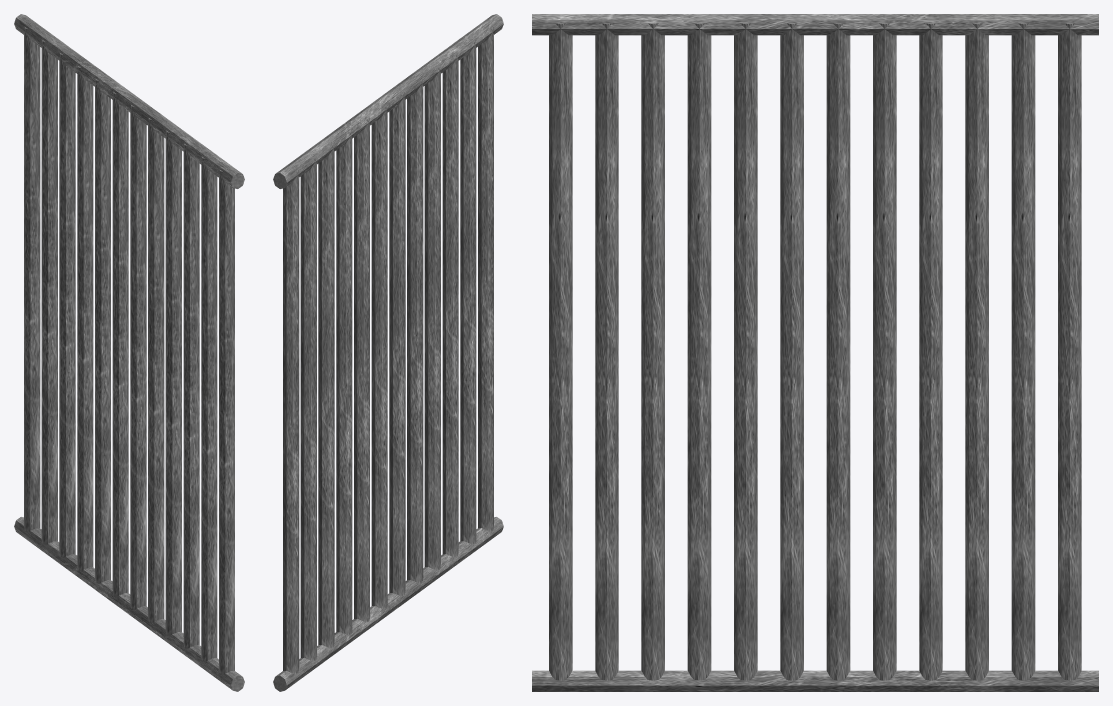
Rendered from gate.fbx.
The picture shows the model from 3 angles, left to right: view 1: azimuth 30°, elevation 25°; view 2: azimuth 150°, elevation 25°; view 3: azimuth 270°, elevation 25°; orthographic projection. The views are drawn at different scales.
Visible parts, largest first — view 1: pCylinder12, pCylinder8, pCylinder5, pCylinder11, pCylinder4, pCylinder7, pCylinder3, pCylinder10, pCylinder13, pCylinder6, pCylinder2, pCylinder9 (+2 smaller); view 2: pCylinder6, pCylinder13, pCylinder3, pCylinder10, pCylinder7, pCylinder4, pCylinder11, pCylinder12, pCylinder8, pCylinder5, pCylinder2, pCylinder9 (+2 smaller); view 3: pCylinder5, pCylinder8, pCylinder12, pCylinder3, pCylinder10, pCylinder13, pCylinder4, pCylinder9, pCylinder2, pCylinder6, pCylinder7, pCylinder11 (+2 smaller).
Boxes of the visible parts, box(x1,y1,x2,y2) form: pCylinder12: box(41, 39, 57, 544); pCylinder8: box(112, 91, 128, 596); pCylinder5: box(165, 130, 181, 635); pCylinder11: box(59, 53, 75, 557); pCylinder4: box(183, 143, 199, 648); pCylinder7: box(130, 104, 146, 609); pCylinder3: box(201, 156, 217, 661); pCylinder10: box(77, 66, 93, 570); pCylinder13: box(24, 26, 40, 531); pCylinder6: box(148, 118, 164, 622); pCylinder2: box(219, 169, 234, 674); pCylinder9: box(95, 78, 110, 583); pCylinder6: box(407, 78, 423, 583); pCylinder13: box(283, 169, 299, 674); pCylinder3: box(460, 39, 476, 544); pCylinder10: box(336, 130, 352, 635); pCylinder7: box(389, 91, 405, 596); pCylinder4: box(442, 52, 458, 557); pCylinder11: box(318, 143, 334, 648); pCylinder12: box(300, 156, 316, 661); pCylinder8: box(371, 104, 387, 609); pCylinder5: box(424, 65, 440, 570); pCylinder2: box(478, 26, 493, 531); pCylinder9: box(354, 117, 369, 622); pCylinder5: box(687, 23, 711, 680); pCylinder8: box(826, 23, 850, 680); pCylinder12: box(1011, 23, 1035, 680); pCylinder3: box(595, 23, 618, 680); pCylinder10: box(919, 23, 942, 680); pCylinder13: box(1058, 23, 1081, 680); pCylinder4: box(641, 23, 664, 680); pCylinder9: box(873, 23, 896, 680); pCylinder2: box(549, 23, 572, 680); pCylinder6: box(734, 23, 757, 680); pCylinder7: box(780, 23, 803, 680); pCylinder11: box(965, 23, 988, 680).
Size of the model in its own units: 0.4515 by 16.16 by 12.25.
Materials: 1 (1 with a texture image).
